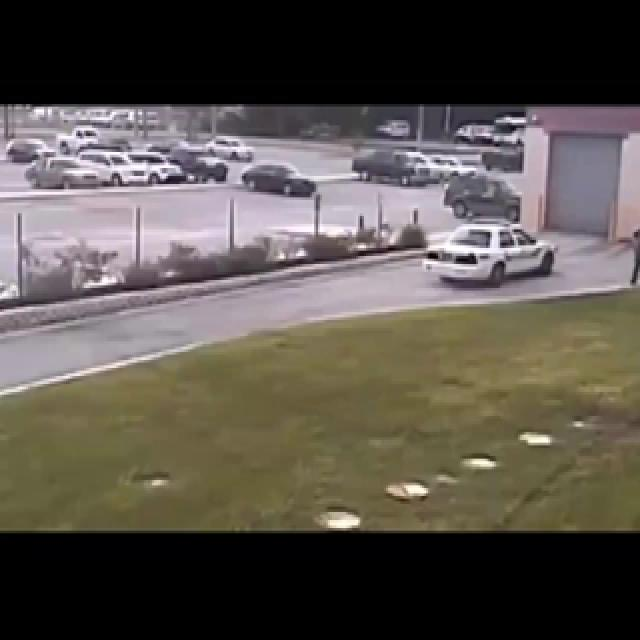arrest: (396, 183, 640, 364)
